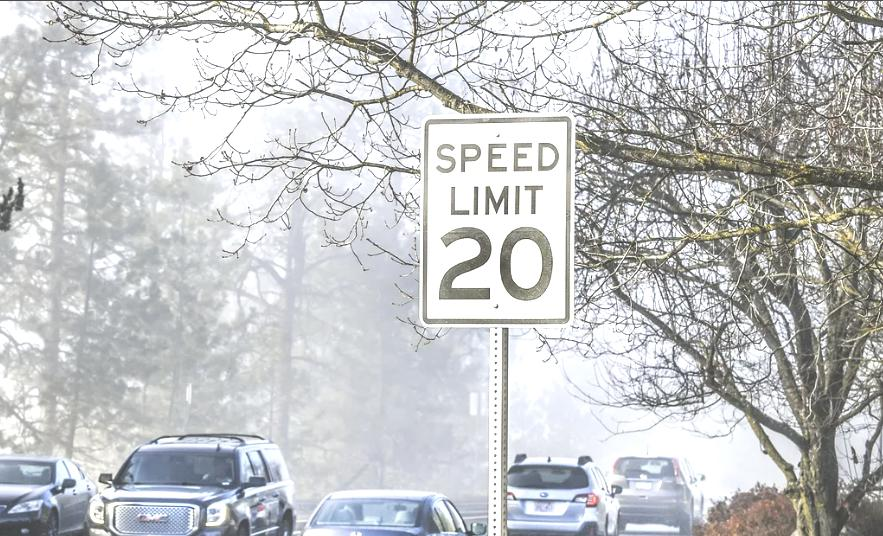20 MPH: (425, 115, 573, 322)
